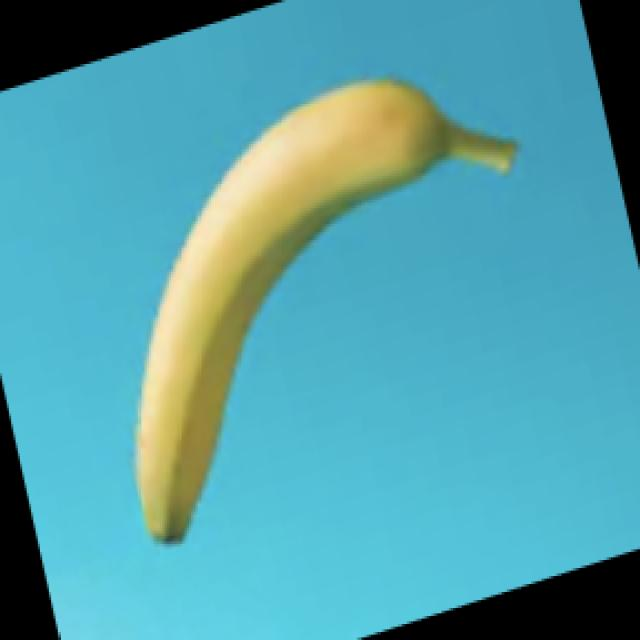banana: (86, 46, 559, 581)
